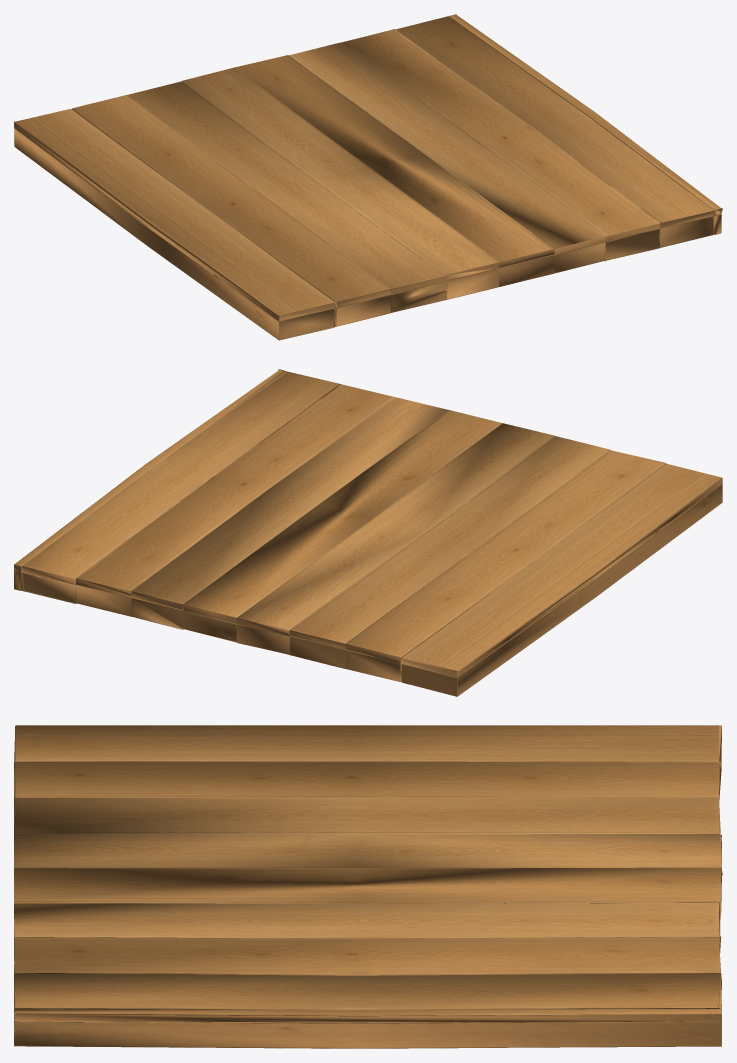
The model's file is ck_floor_panel-original.glb.
3 views of the same model, one above another, from view 1: azimuth 30°, elevation 25°; view 2: azimuth 150°, elevation 25°; view 3: azimuth 270°, elevation 25° (orthographic). The views are drawn at different scales.
Size of the model in its own units: 0.9419 by 0.0522 by 0.9692.
1 material, 1 textured.
